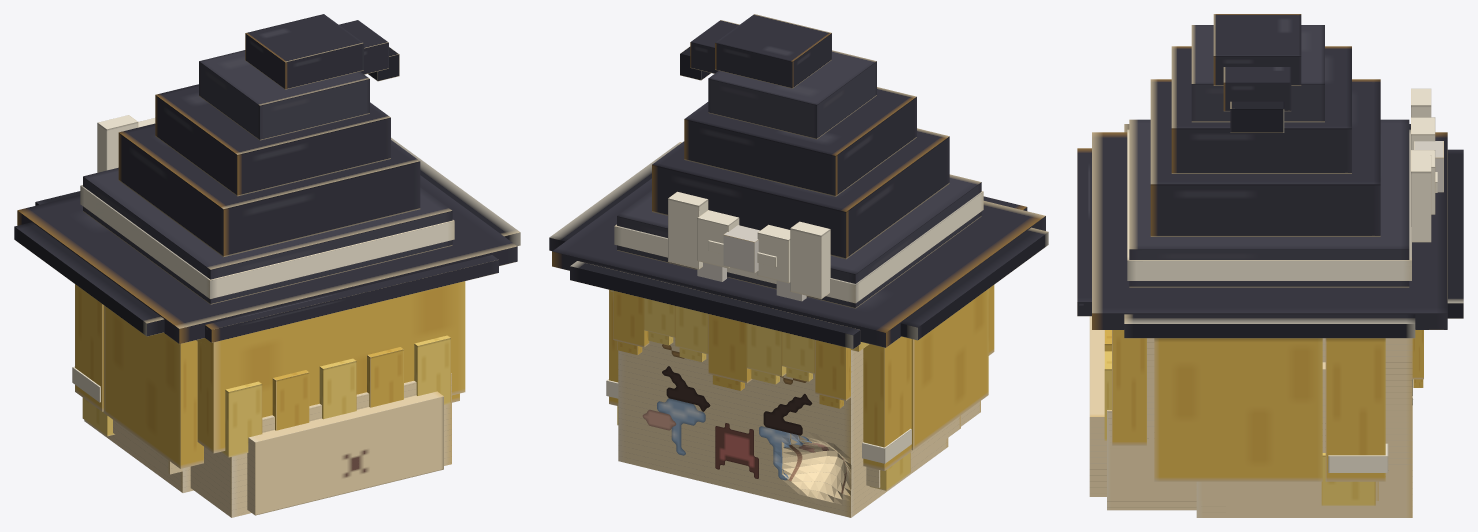
Rendered from dent_marisa_3.obj.
3 views of the same model, side by side, from view 1: azimuth 30°, elevation 25°; view 2: azimuth 150°, elevation 25°; view 3: azimuth 270°, elevation 25° (orthographic). The views are drawn at different scales.
Parts seen in each view (by area): view 1: dent_marisa_3; view 2: dent_marisa_3; view 3: dent_marisa_3.
Part boxes in pixels (x1,y1,x2,y2): dent_marisa_3: [14, 14, 520, 517]; dent_marisa_3: [549, 14, 1048, 517]; dent_marisa_3: [1077, 14, 1463, 517].
Bounding box in the file's own units: 19 × 19.34 × 15.53.
1 material, 1 textured.
